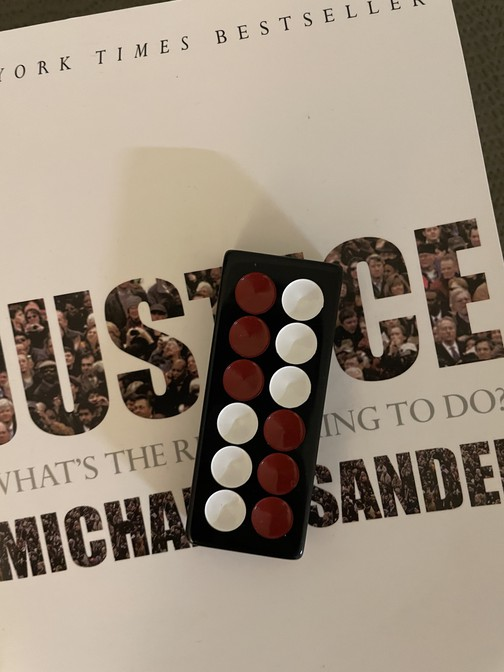heaven: (187, 251, 342, 563)
